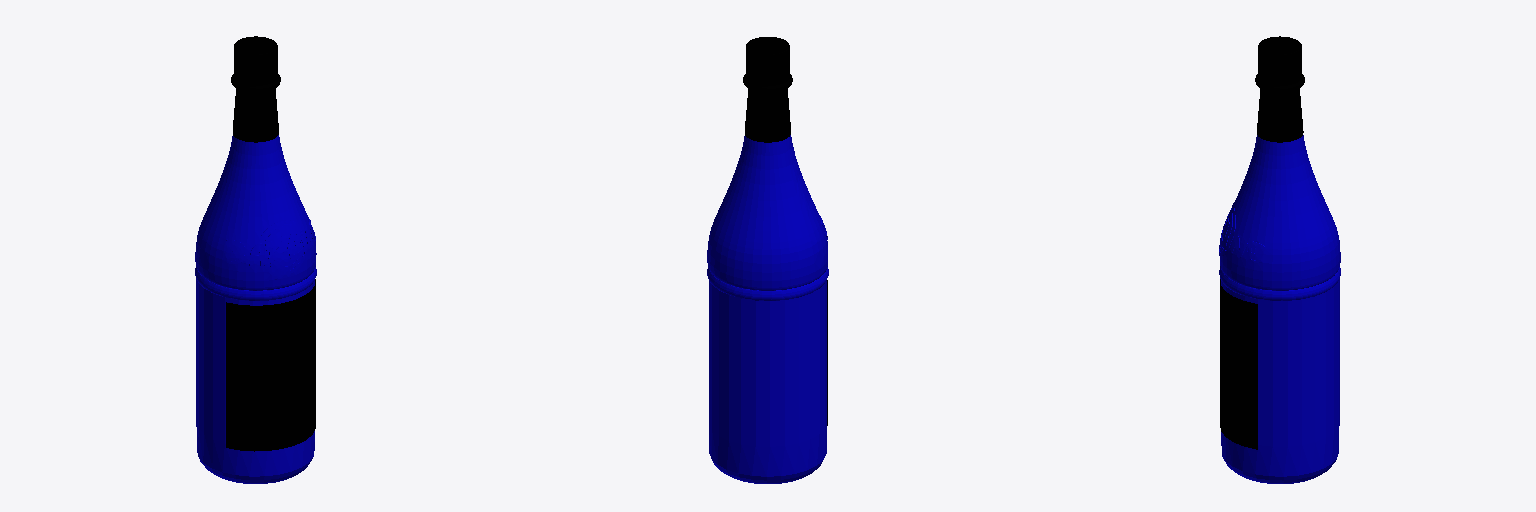
The model's file is bottle_syrup.obj.
The picture shows the model from 3 angles: view 1: azimuth 30°, elevation 25°; view 2: azimuth 150°, elevation 25°; view 3: azimuth 270°, elevation 25°; orthographic projection.
Parts seen in each view (by area): view 1: bottle_plastic_barline_joined, bottle_plastic_barline_sticker_bottle_plastic_barline_joined.00, bouchon_bottle_plastic_barline_joined.001; view 2: bottle_plastic_barline_joined, bouchon_bottle_plastic_barline_joined.001; view 3: bottle_plastic_barline_joined, bottle_plastic_barline_sticker_bottle_plastic_barline_joined.00, bouchon_bottle_plastic_barline_joined.001.
Part boxes in pixels (x1,y1,x2,y2): bottle_plastic_barline_joined: (195,135,316,483); bottle_plastic_barline_sticker_bottle_plastic_barline_joined.00: (226,279,315,451); bouchon_bottle_plastic_barline_joined.001: (231,36,280,142); bottle_plastic_barline_joined: (707,135,828,483); bouchon_bottle_plastic_barline_joined.001: (743,37,792,142); bottle_plastic_barline_joined: (1219,135,1340,483); bottle_plastic_barline_sticker_bottle_plastic_barline_joined.00: (1220,279,1257,449); bouchon_bottle_plastic_barline_joined.001: (1255,36,1304,142).
Bounding box in the file's own units: 110 × 420 × 110.